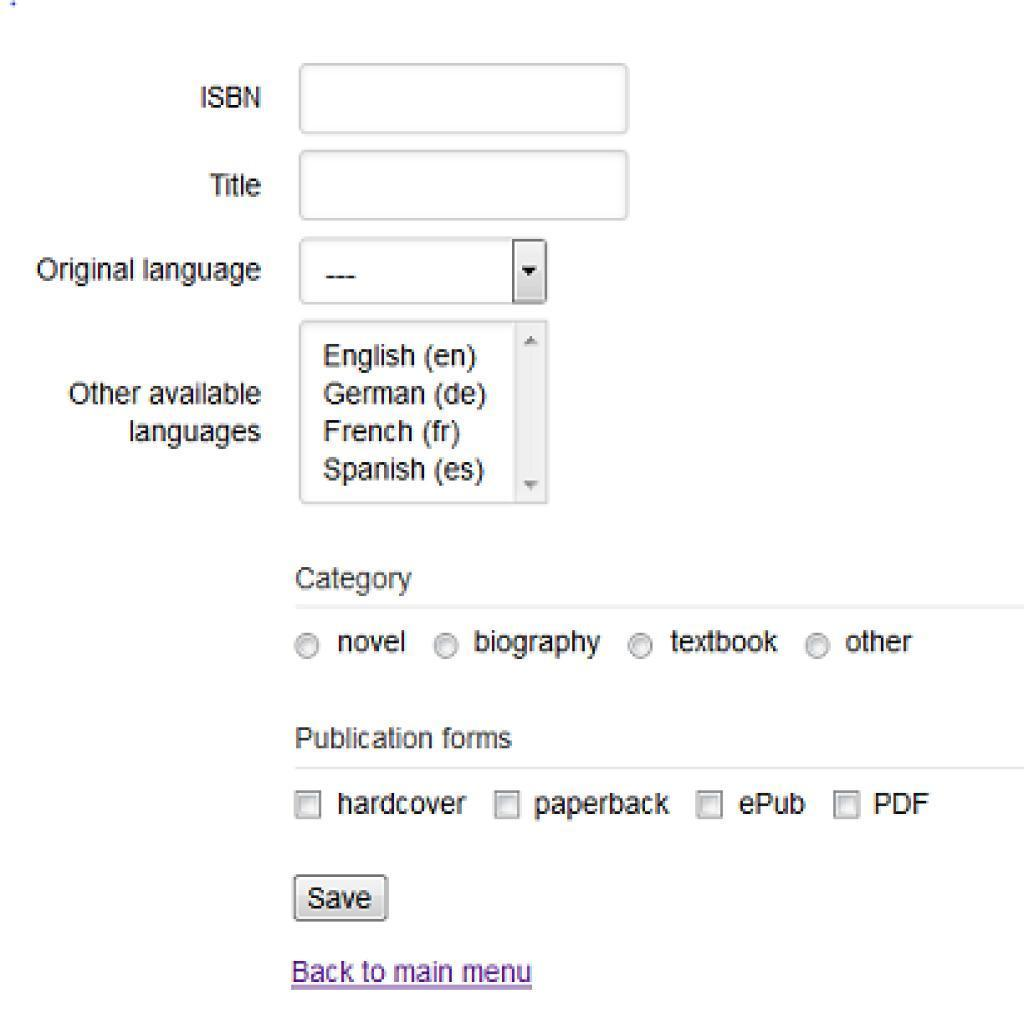button: (294, 875, 390, 922)
checkbox: (492, 789, 524, 821), (696, 789, 726, 821), (294, 790, 324, 821), (833, 791, 864, 820)
dropdown: (298, 239, 547, 305)
input: (300, 65, 631, 136), (300, 151, 630, 219)
label: (291, 955, 541, 996), (30, 252, 270, 291), (527, 788, 679, 824), (472, 625, 605, 660), (667, 622, 782, 661), (332, 785, 472, 817), (845, 625, 917, 660), (738, 787, 812, 819), (335, 628, 413, 657), (872, 788, 931, 824), (195, 84, 261, 114), (211, 168, 263, 204)
radio: (290, 631, 326, 665), (803, 629, 836, 664), (429, 630, 463, 663), (625, 633, 658, 664)
